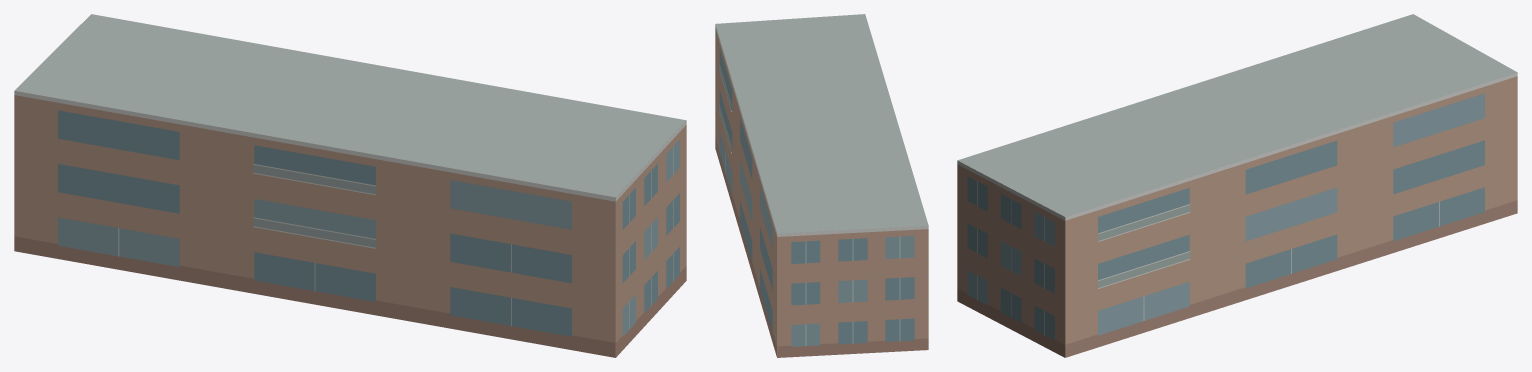
Rendered from survey-upis-32585402.glb.
The picture shows the model from 3 angles, left to right: view 1: azimuth 30°, elevation 25°; view 2: azimuth 150°, elevation 25°; view 3: azimuth 270°, elevation 25°; orthographic projection. The views are drawn at different scales.
Parts seen in each view (by area): view 1: survey-upis-32585402.tmp; view 2: survey-upis-32585402.tmp; view 3: survey-upis-32585402.tmp.
Part boxes in pixels (x1,y1,x2,y2): survey-upis-32585402.tmp: (14, 14, 686, 357); survey-upis-32585402.tmp: (715, 14, 928, 357); survey-upis-32585402.tmp: (957, 14, 1517, 357).
Size of the model in its own units: 28.29 by 9.15 by 32.99.
